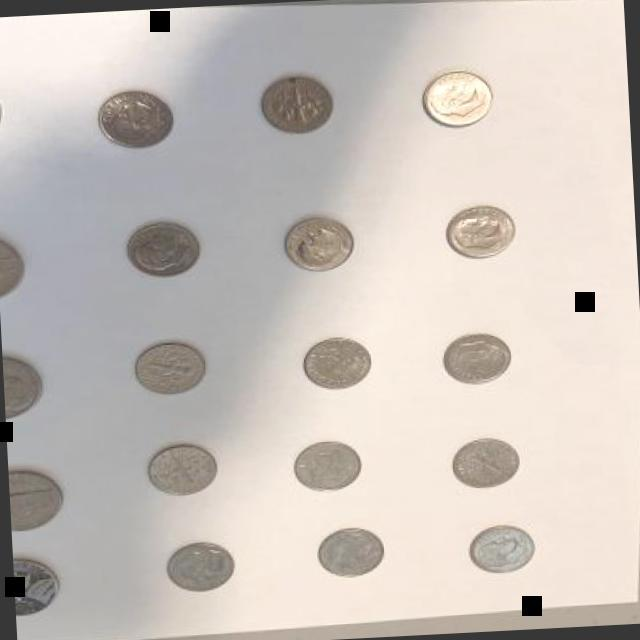Dime: (90, 75, 182, 154), (250, 67, 342, 136), (414, 62, 499, 133), (124, 212, 208, 282), (130, 337, 211, 399), (442, 200, 520, 264), (280, 212, 356, 276), (143, 440, 224, 500), (438, 326, 514, 389), (288, 436, 364, 498), (300, 331, 376, 393), (165, 538, 238, 596), (313, 524, 388, 580), (451, 434, 522, 491), (467, 523, 538, 577)
Nickel: (8, 461, 66, 532), (1, 346, 50, 420), (12, 555, 64, 617), (0, 217, 28, 306)
